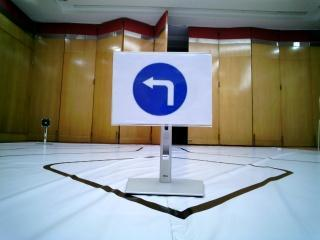left: (113, 51, 209, 125)
